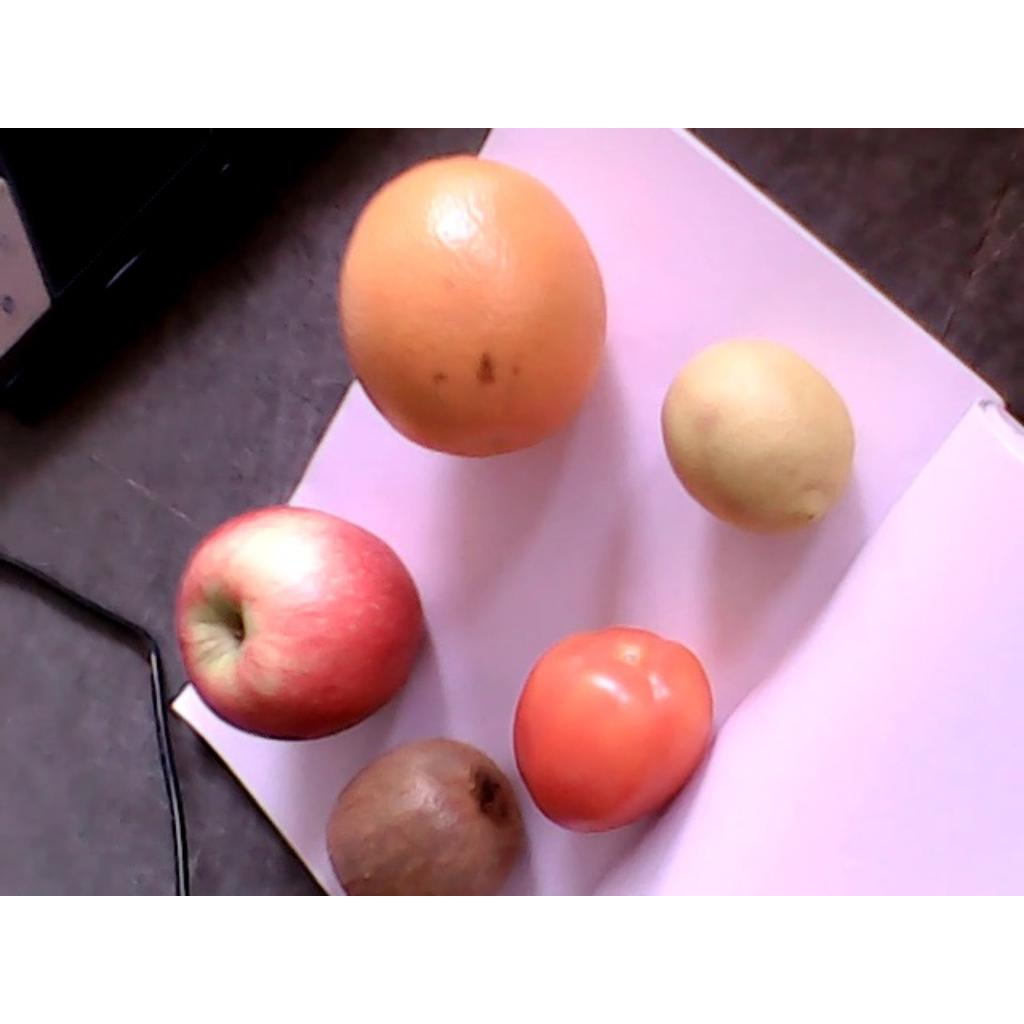apple: (174, 506, 424, 742)
kiwi: (328, 738, 524, 894)
lemon: (661, 341, 855, 532)
orange: (338, 154, 606, 456)
tomato: (513, 627, 712, 833)
